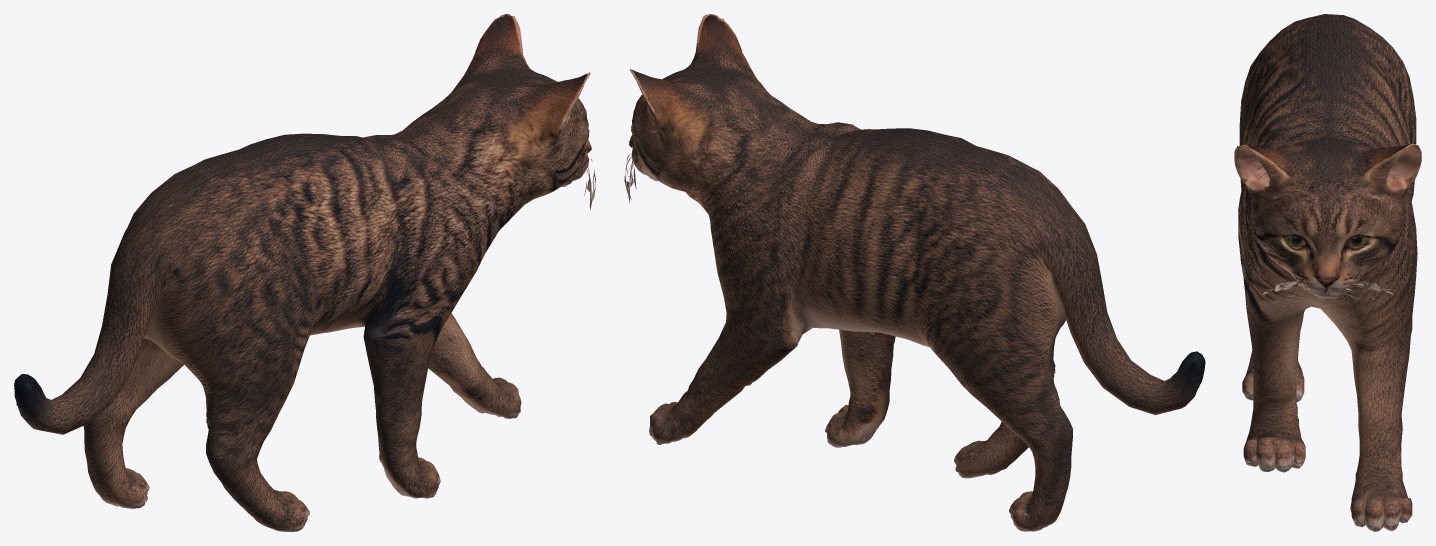
File: gato.glb
The picture shows the model from 3 angles, left to right: view 1: azimuth 30°, elevation 25°; view 2: azimuth 150°, elevation 25°; view 3: azimuth 270°, elevation 25°; orthographic projection. The views are drawn at different scales.
Visible parts, largest first — view 1: Model_0; view 2: Model_0; view 3: Model_0.
Part boxes in pixels (x1,y1,x2,y2): Model_0: [14, 14, 595, 531]; Model_0: [624, 14, 1205, 531]; Model_0: [1234, 14, 1421, 531].
Size of the model in its own units: 1 by 0.6439 by 0.272.
1 material, 1 textured.
